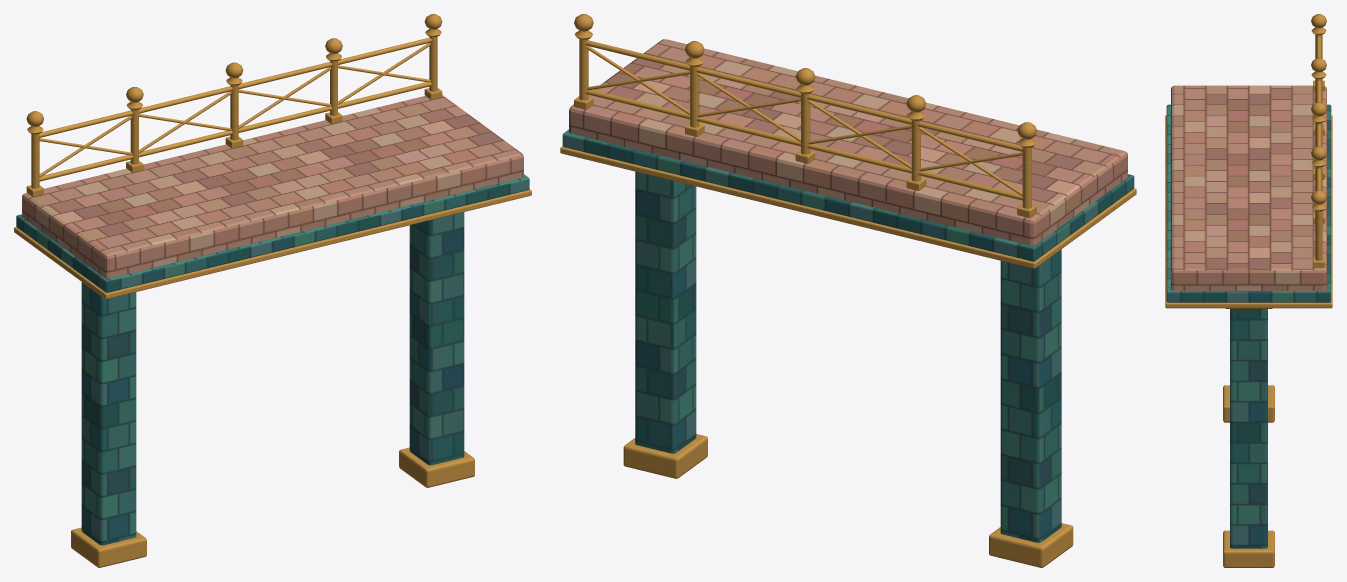
File: act2_rear_walkway.glb
The picture shows the model from 3 angles, left to right: view 1: azimuth 30°, elevation 25°; view 2: azimuth 150°, elevation 25°; view 3: azimuth 270°, elevation 25°; orthographic projection. The views are drawn at different scales.
Parts seen in each view (by area): view 1: SM_Act2_RearWalkL_Mesh; view 2: SM_Act2_RearWalkL_Mesh; view 3: SM_Act2_RearWalkL_Mesh.
Boxes of the visible parts, x1,y1,x2,y2 form: SM_Act2_RearWalkL_Mesh: [14, 14, 531, 567]; SM_Act2_RearWalkL_Mesh: [560, 14, 1136, 567]; SM_Act2_RearWalkL_Mesh: [1165, 14, 1332, 567].
Bounding box in the file's own units: 3.29 × 3.1 × 1.23.
3 materials, 3 textured.
